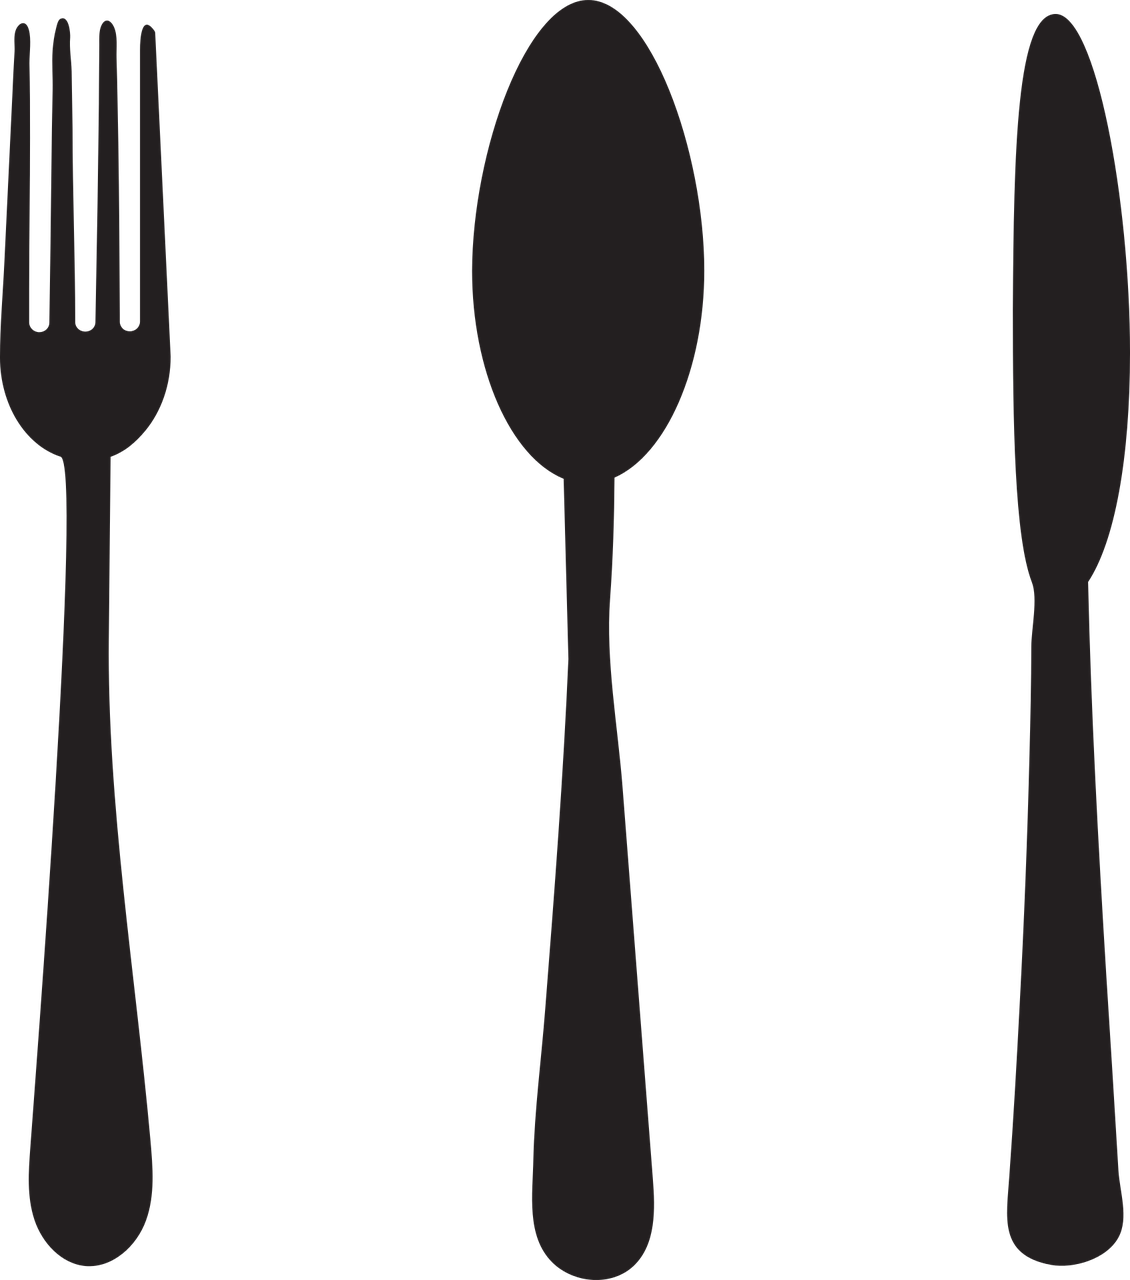knife: (1003, 9, 1130, 1276)
